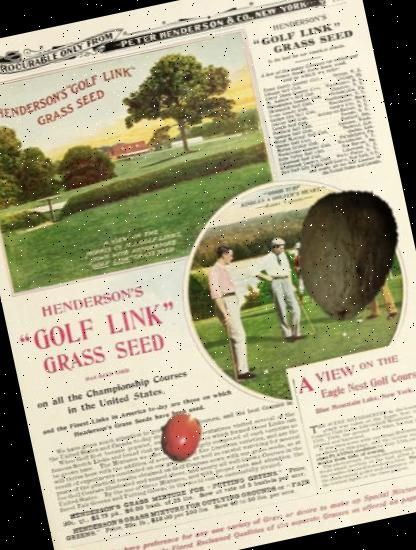Kaki: (150, 407, 210, 467)
Papaya: (264, 173, 416, 335)
